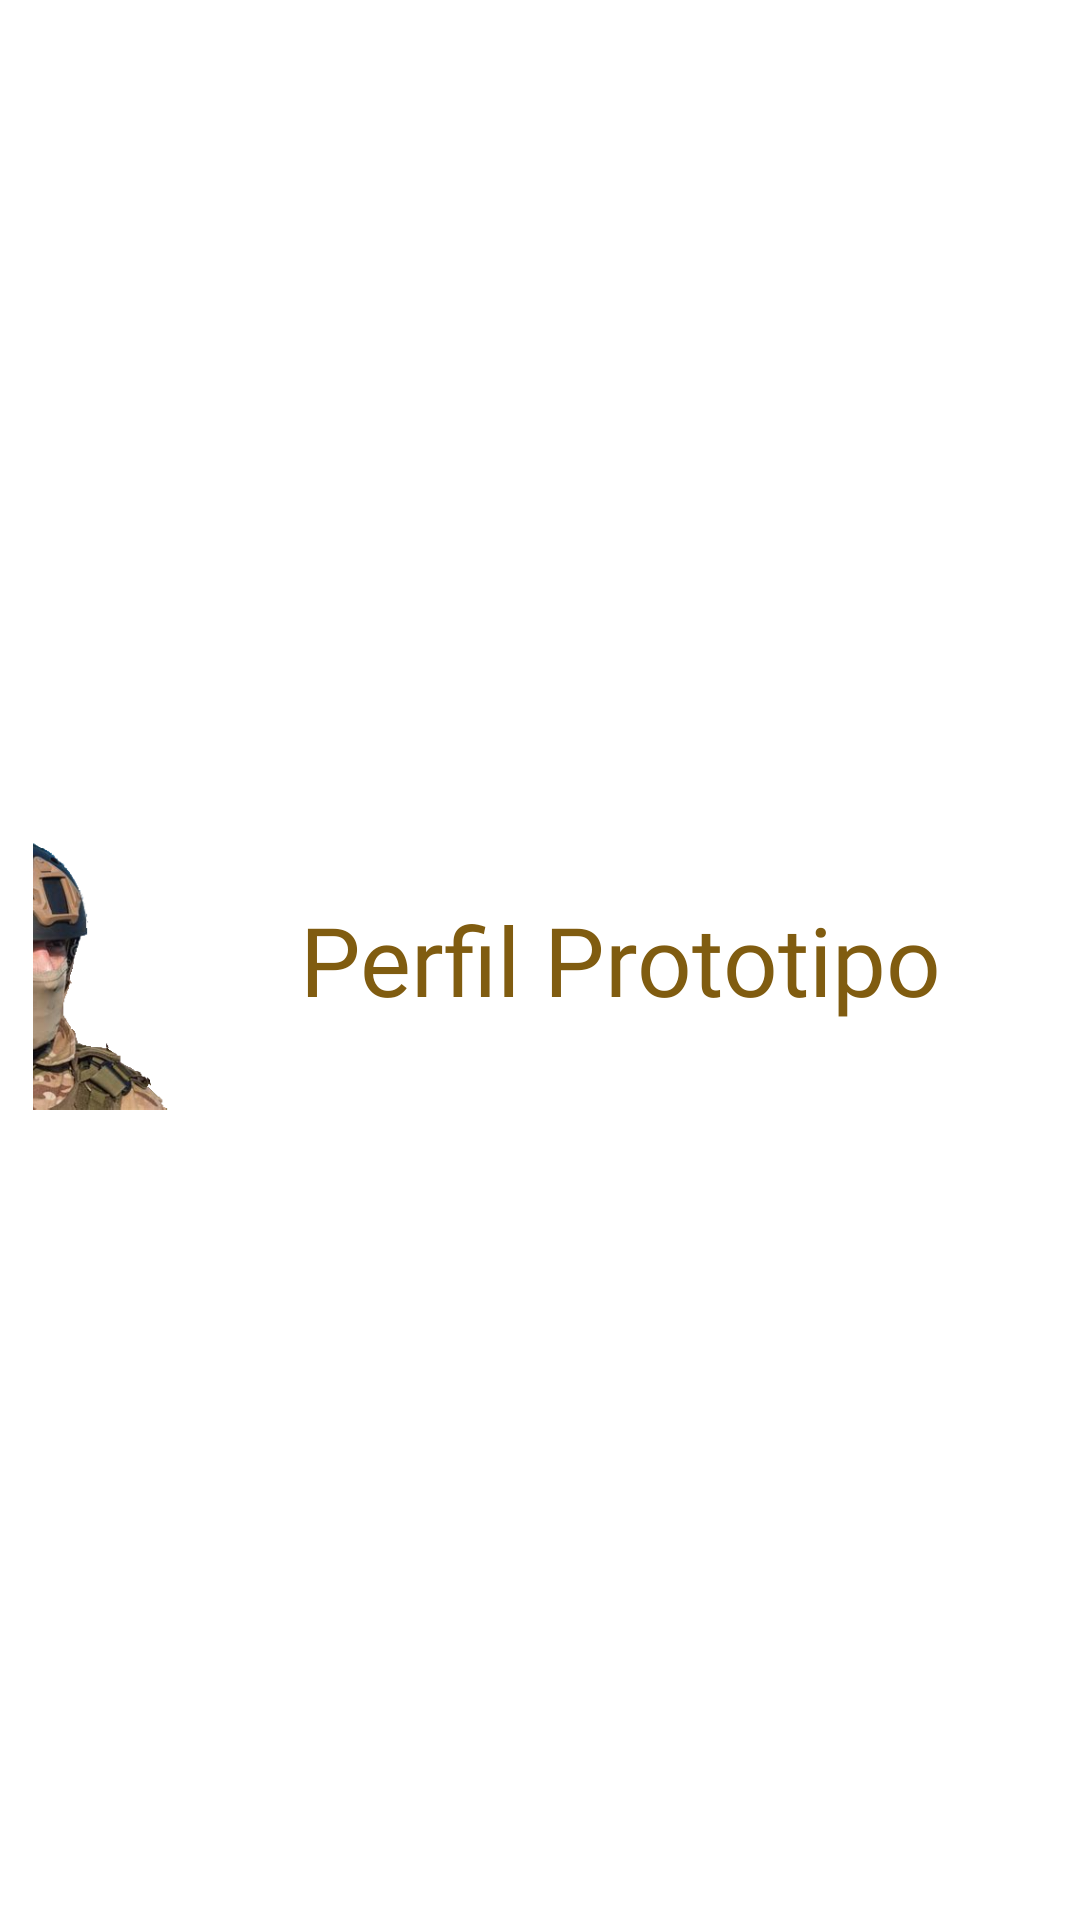

Icon bounding boxes for this 1080×1920 phone screenshot, format detection(x1, y1, x2, y2):
soldier fixed: detection(33, 843, 167, 1110)
